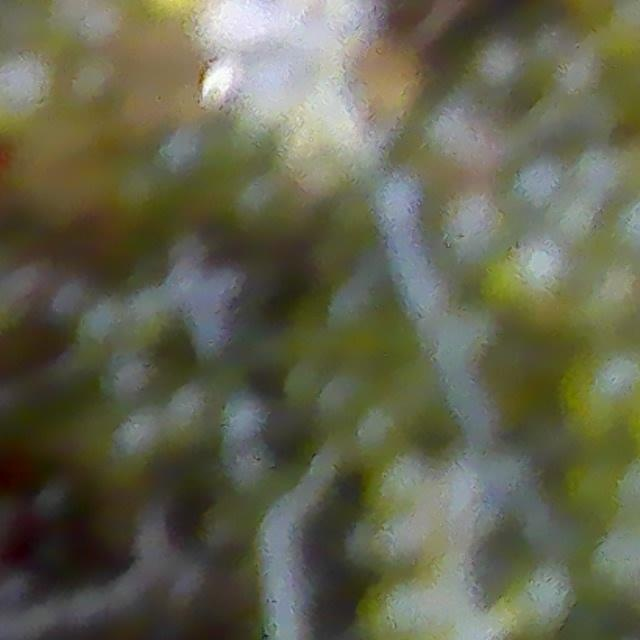SeaGrape: (557, 346, 640, 440), (491, 240, 572, 317), (238, 36, 314, 114), (445, 189, 508, 255), (201, 0, 262, 44)
